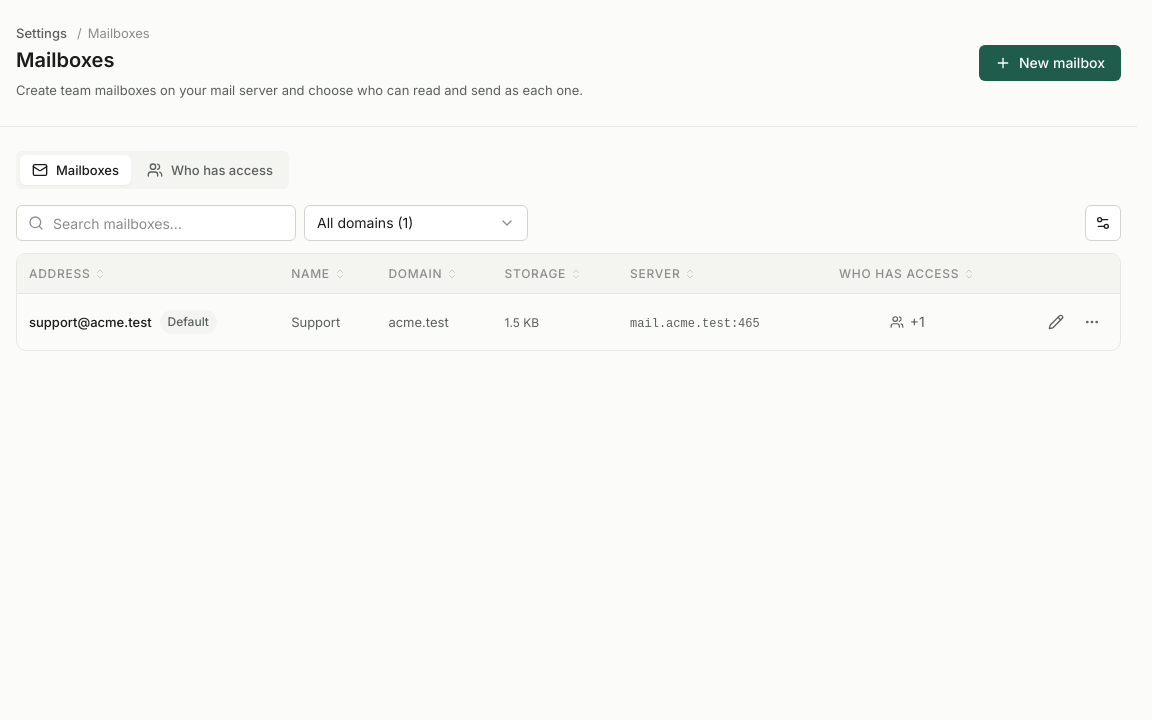
Test: Mailboxes › resets a mailbox password and shows it exactly once
The width and height of the screenshot is (1152, 720).
Check: the text "support@acme.test" is shown, box [29,313,152,331]
Check: the text "+1" is shown, box [890,312,925,332]
Click the button named "More actions for support@acme.test": {"x": 1092, "y": 322} [1076,306,1108,338]
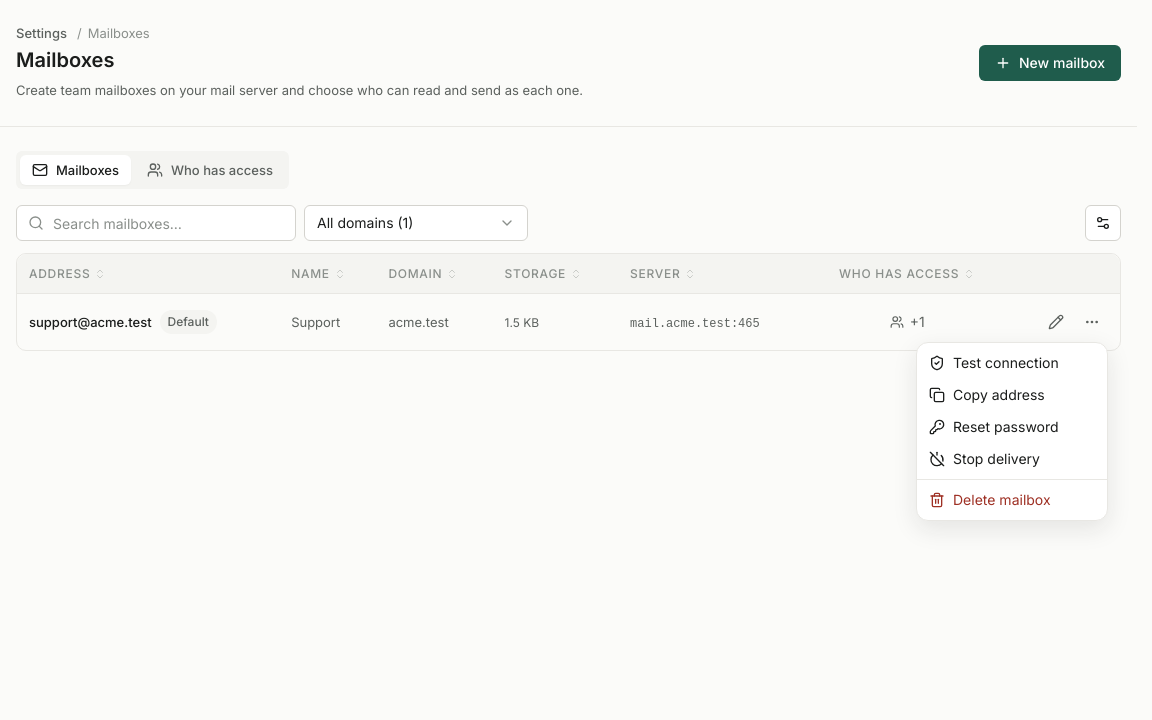
Click the menu item "Reset password": {"x": 994, "y": 426} [929,418,1059,435]
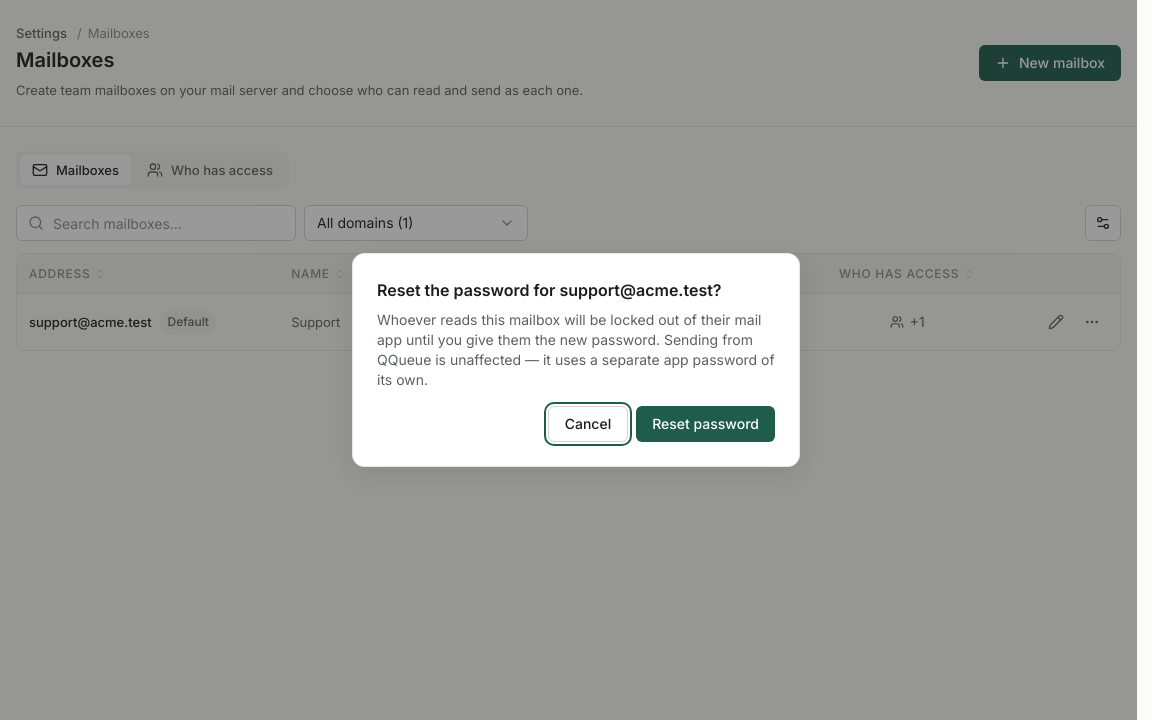
Click the button "Reset password": {"x": 706, "y": 424} [636,406,775,442]
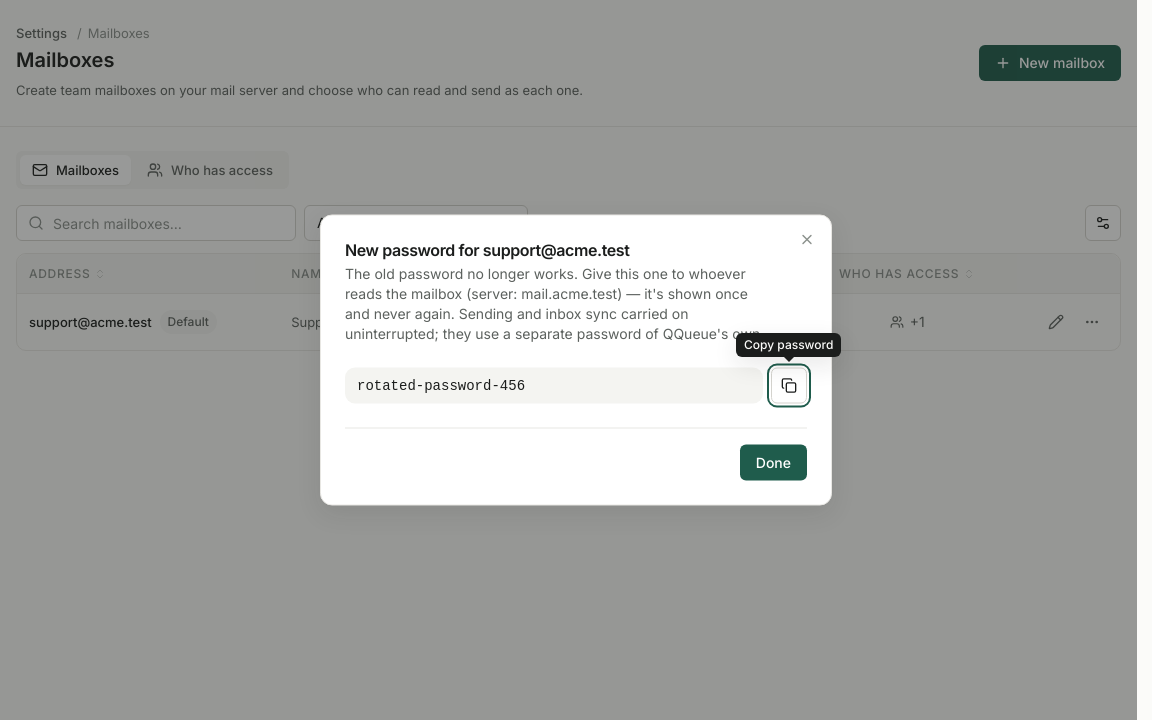
Check: the text "rotated-password-456" is shown, box [345,368,763,404]
Check: the text "separate password of QQueue's own" is shown, box [345,264,764,342]
